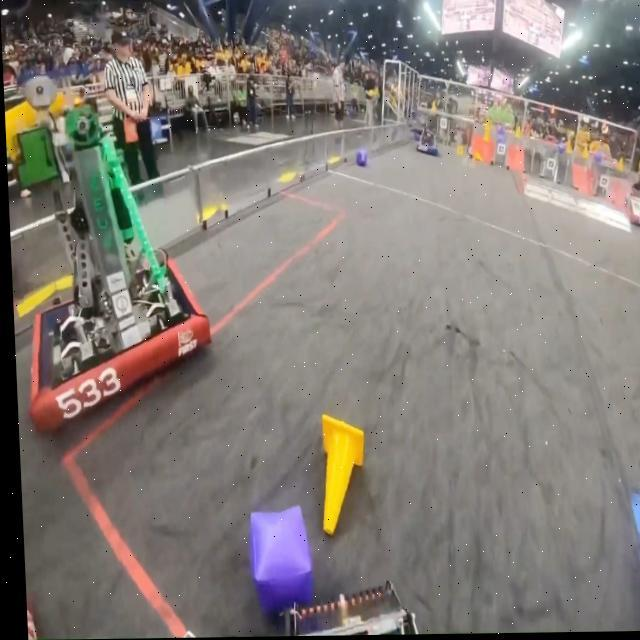robot: (28, 75, 210, 435), (417, 128, 438, 157)
